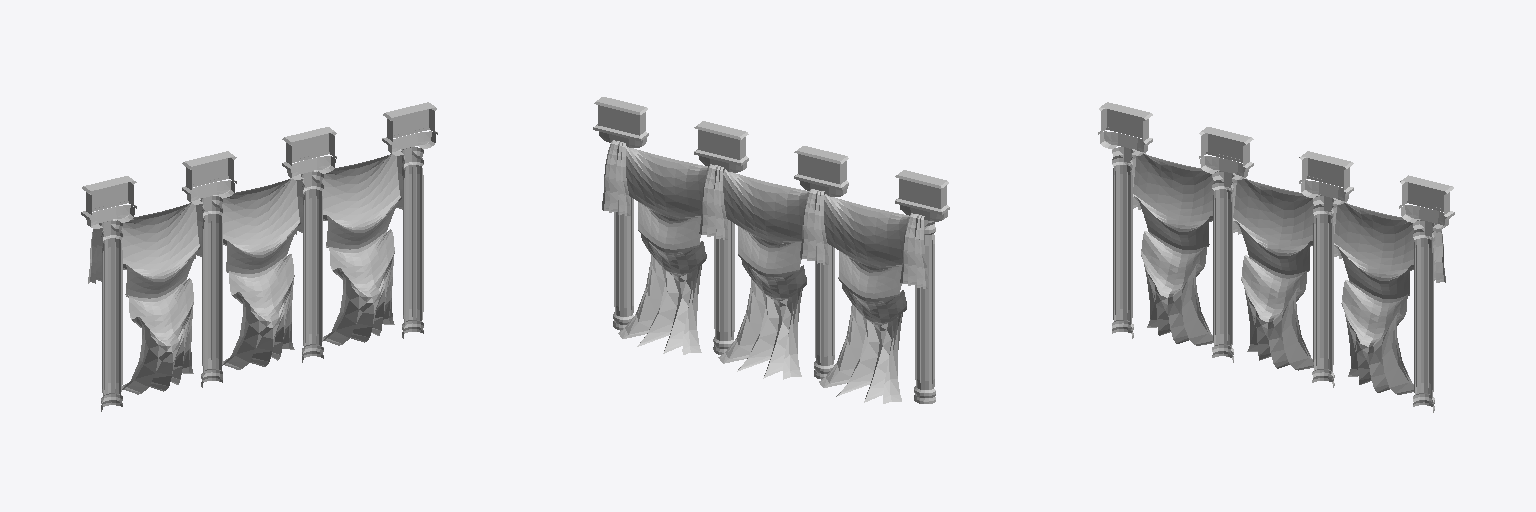
File: pillarwall 4x3.obj
3 views of the same model, side by side, from view 1: azimuth 30°, elevation 25°; view 2: azimuth 150°, elevation 25°; view 3: azimuth 330°, elevation 25° (orthographic).
Parts seen in each view (by area): view 1: polySurface11; view 2: polySurface11; view 3: polySurface11.
Boxes of the visible parts, x1=… form: polySurface11: x1=81, y1=102, x2=437, y2=411; polySurface11: x1=593, y1=97, x2=949, y2=403; polySurface11: x1=1098, y1=102, x2=1454, y2=412.
Size of the model in its own units: 27.79 by 17.07 by 4.3.